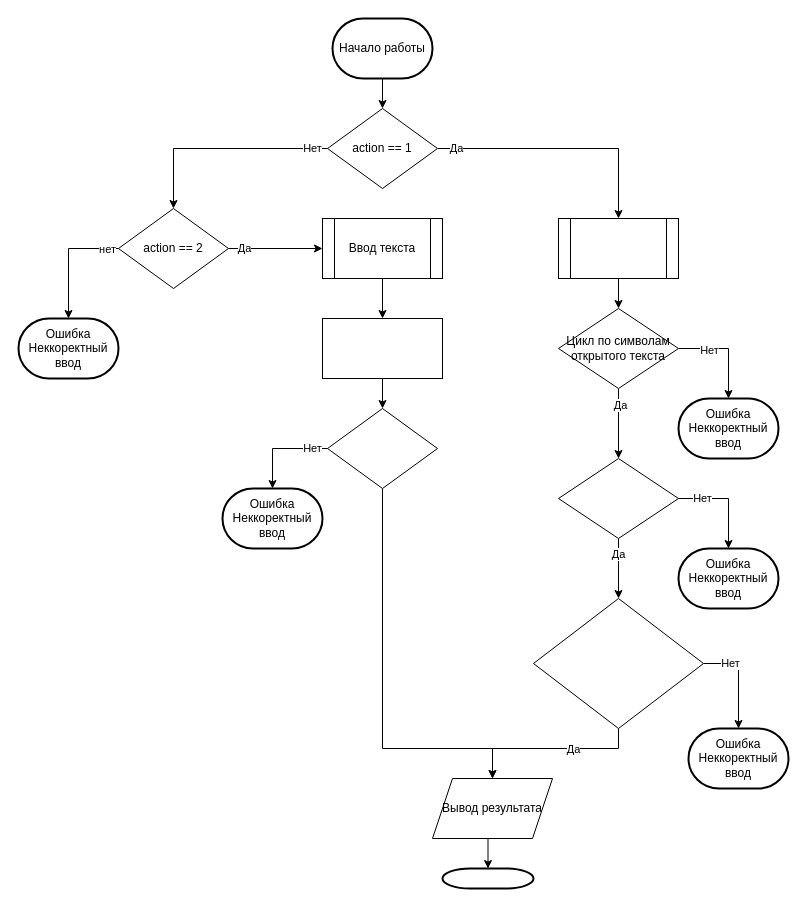
This 806x906 diagram has some shape labels left out. Each missing label, with the centre of its shape:
"Ввод и обработка" belongs at (x=618, y=248).
"Для каждой строки в алфавите" belongs at (x=618, y=498).
"Если letter равен alphabet[i][j] , где i — индекс строки, а j — индекс символа" belongs at (x=618, y=663).
"Конец работы" belongs at (x=487, y=878).
"Проверка, если letter не пустой" belongs at (x=382, y=448).
"Разделение строки на подстроки по пробелам" belongs at (x=382, y=348).
